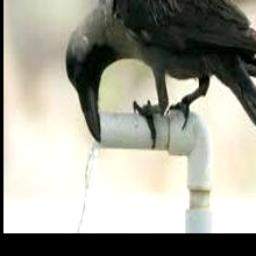Crow: (65, 0, 256, 164)
